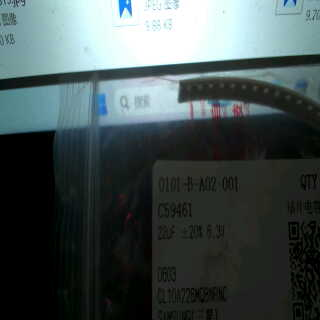22uF: (155, 221, 179, 245)
